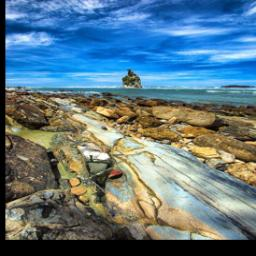Cuckoo: (70, 143, 115, 205)
